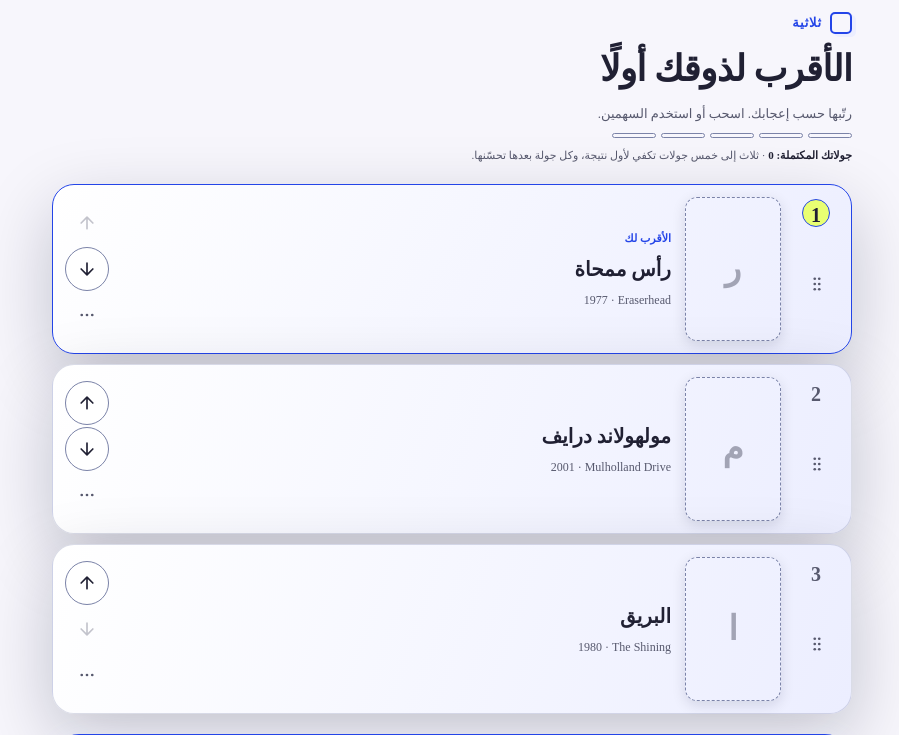
Test: RankScreen — ready state › keeps only the replacement controls behind the card menu
Expected: the heading "رأس ممحاة" is shown, [575,258,671,280]
Click the heading named "استبدال هذا الفيلم" in the row of "Eraserhead": (87, 315) [78,306,96,324]
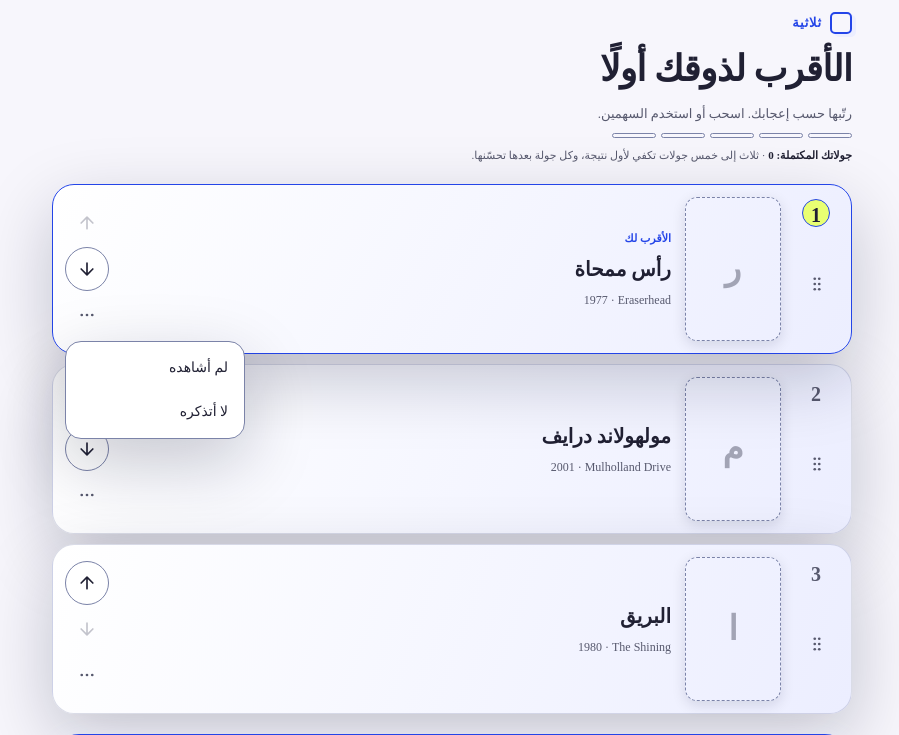
Result: the button "لم أشاهده" is shown at [70,346,240,390]
